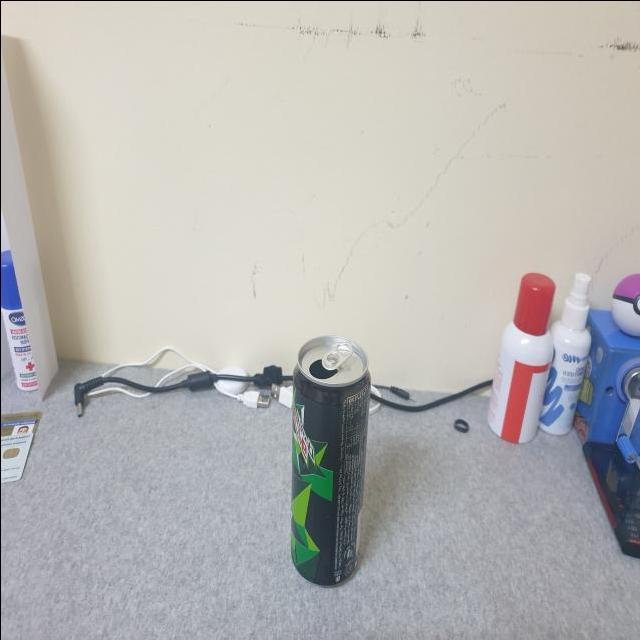can: (287, 331, 370, 586)
